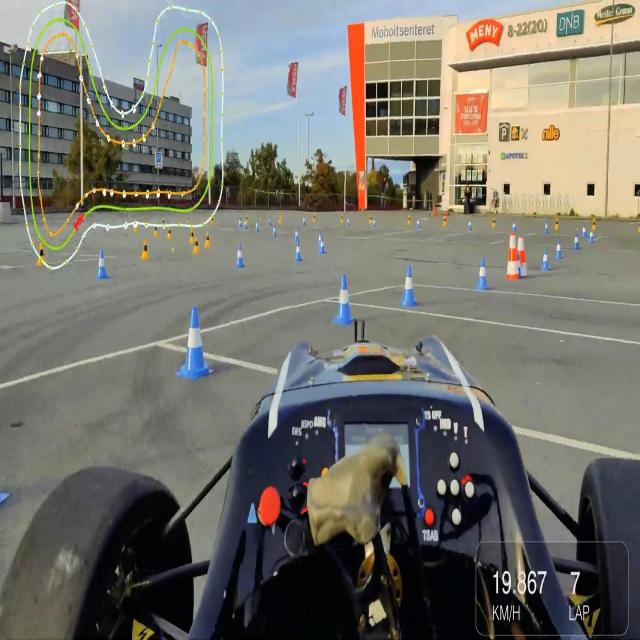blue_cone: (179, 300, 213, 383), (334, 271, 353, 327), (399, 263, 416, 308), (476, 257, 489, 292), (96, 248, 108, 282), (540, 244, 551, 274), (514, 247, 523, 282), (236, 240, 244, 270), (555, 237, 562, 260), (295, 240, 301, 260), (589, 227, 595, 246), (574, 231, 580, 249), (544, 220, 550, 237), (320, 235, 325, 252), (272, 223, 278, 236), (512, 220, 517, 235), (255, 219, 260, 233), (582, 223, 586, 239), (295, 227, 299, 242)
large_orange_cone: (506, 230, 518, 282), (518, 236, 528, 278)
yellow_cone: (36, 240, 46, 268), (140, 237, 150, 262), (193, 236, 200, 257), (204, 229, 211, 248), (554, 215, 561, 232), (167, 225, 173, 243), (591, 215, 597, 232), (153, 223, 158, 240), (190, 225, 194, 246)
